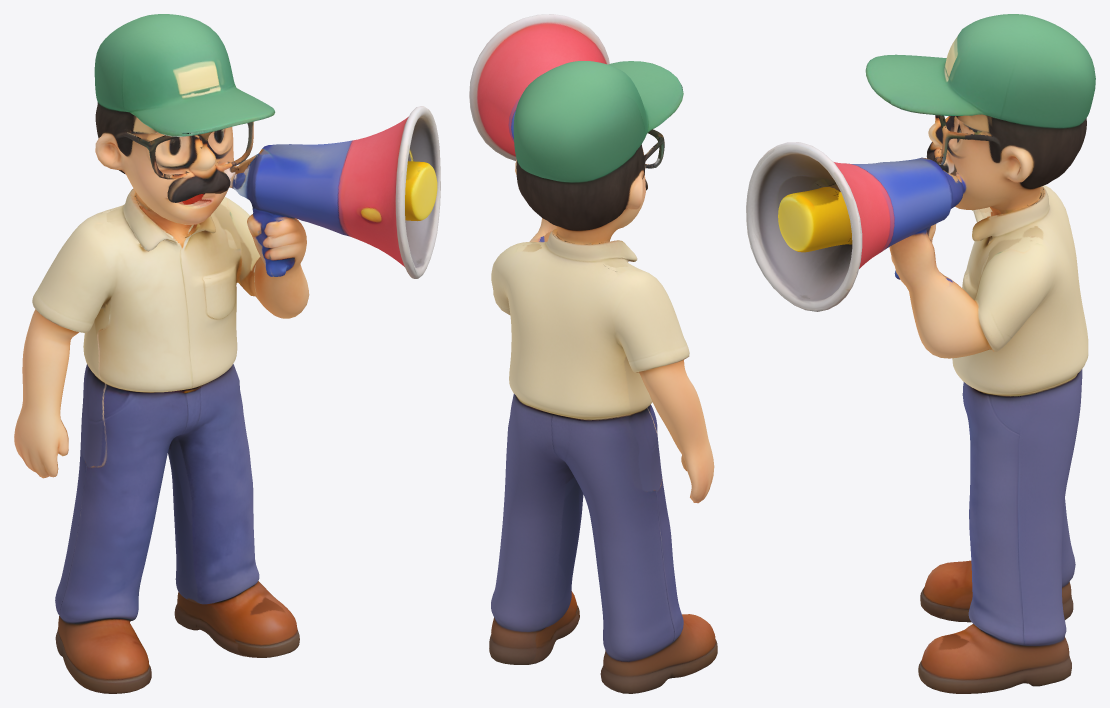
The model's file is PersonajeMegafono.glb.
3 views of the same model, side by side, from view 1: azimuth 30°, elevation 25°; view 2: azimuth 150°, elevation 25°; view 3: azimuth 270°, elevation 25° (orthographic). The views are drawn at different scales.
Parts seen in each view (by area): view 1: model; view 2: model; view 3: model.
Boxes of the visible parts, left/top/right/bottom form: model: left=14, top=14, right=440, bottom=693; model: left=469, top=14, right=717, bottom=693; model: left=746, top=14, right=1095, bottom=693.
Size of the model in its own units: 1.07 by 1.9 by 0.9605.
Materials: 1 (1 with a texture image).
